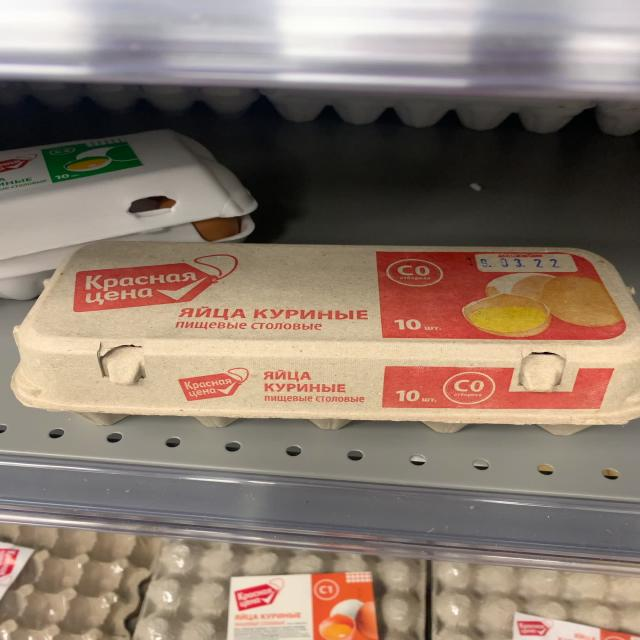egg box: (12, 229, 638, 437)
